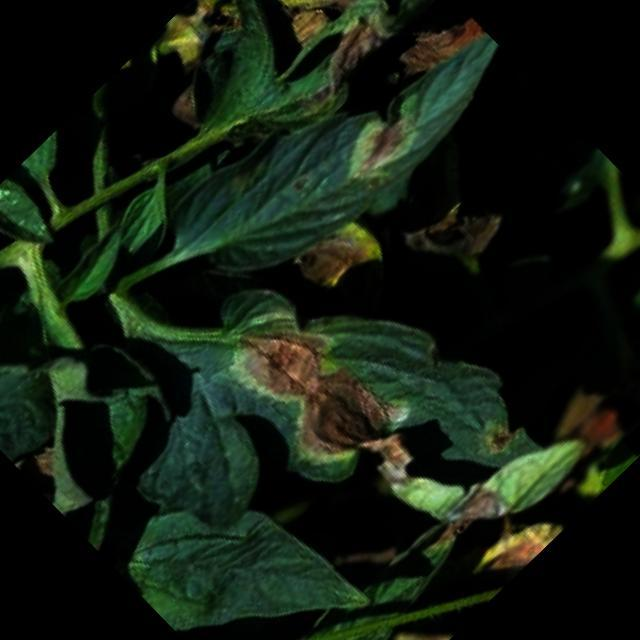Tomato late blight leaf: (30, 133, 542, 640), (144, 0, 527, 349)
